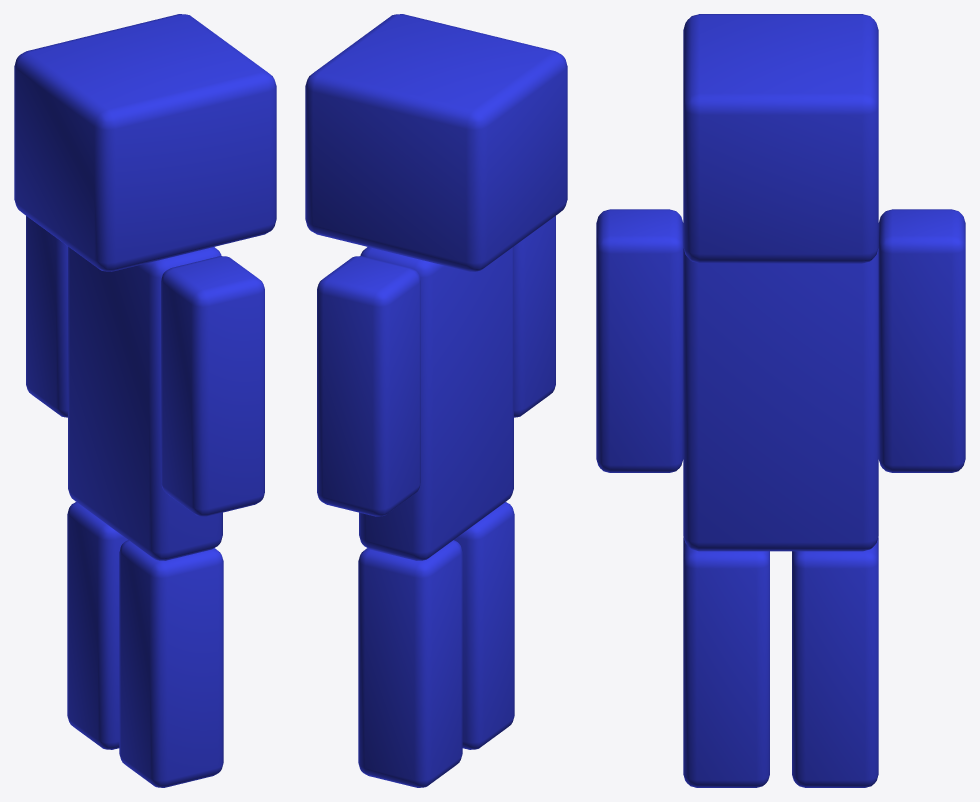
The model's file is Robot.glb.
3 views of the same model, side by side, from view 1: azimuth 30°, elevation 25°; view 2: azimuth 150°, elevation 25°; view 3: azimuth 270°, elevation 25° (orthographic). The views are drawn at different scales.
Visible parts, largest first — view 1: head, Cube, left arm, left arm.002, left arm.003, left arm.001; view 2: head, Cube, left arm.001, left arm.003, left arm.002, left arm; view 3: Cube, head, left arm, left arm.001, left arm.002, left arm.003.
Part boxes in pixels (<box>): head: <box>14,14,276,271</box>; Cube: <box>68,246,222,560</box>; left arm: <box>161,256,264,516</box>; left arm.002: <box>119,540,223,787</box>; left arm.003: <box>67,502,127,749</box>; left arm.001: <box>26,216,67,417</box>; head: <box>305,14,567,271</box>; Cube: <box>359,246,513,560</box>; left arm.001: <box>317,256,420,516</box>; left arm.003: <box>358,540,462,787</box>; left arm.002: <box>454,502,514,749</box>; left arm: <box>514,216,555,417</box>; Cube: <box>683,248,878,551</box>; head: <box>683,14,878,263</box>; left arm: <box>596,209,683,472</box>; left arm.001: <box>878,209,965,472</box>; left arm.002: <box>683,537,769,787</box>; left arm.003: <box>792,537,878,787</box>.
Size of the model in its own units: 0.5 by 1.83 by 0.85.
